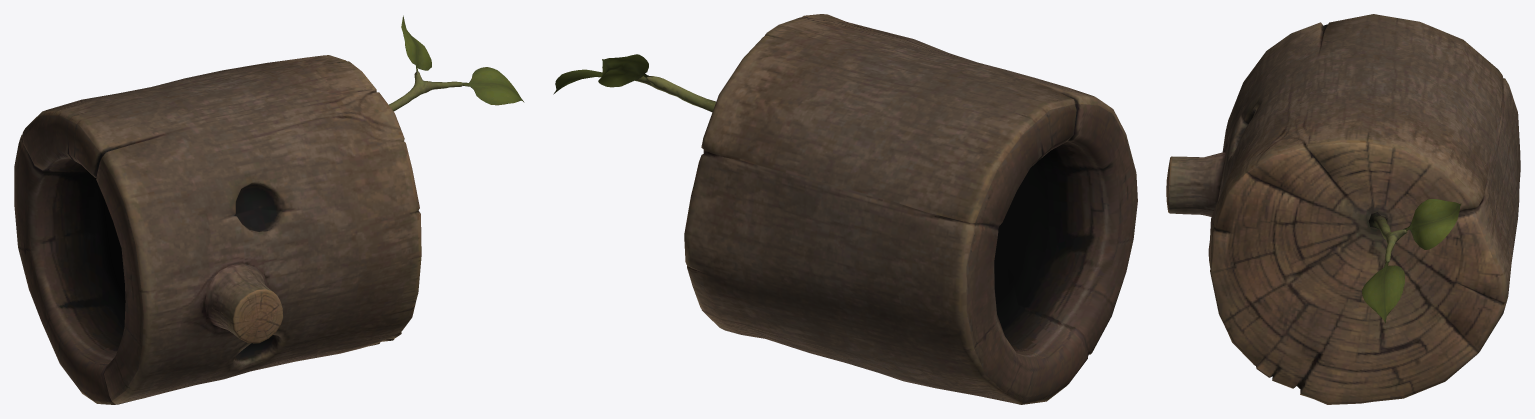
File: MokujinMask.fbx
3 views of the same model, side by side, from view 1: azimuth 30°, elevation 25°; view 2: azimuth 150°, elevation 25°; view 3: azimuth 270°, elevation 25° (orthographic). The views are drawn at different scales.
Parts seen in each view (by area): view 1: mesh0; view 2: mesh0; view 3: mesh0.
Part boxes in pixels (x1,y1,x2,y2): mesh0: (14,15,524,404); mesh0: (553,14,1137,404); mesh0: (1166,14,1520,404).
Size of the model in its own units: 0.2933 by 0.1671 by 0.1974.
